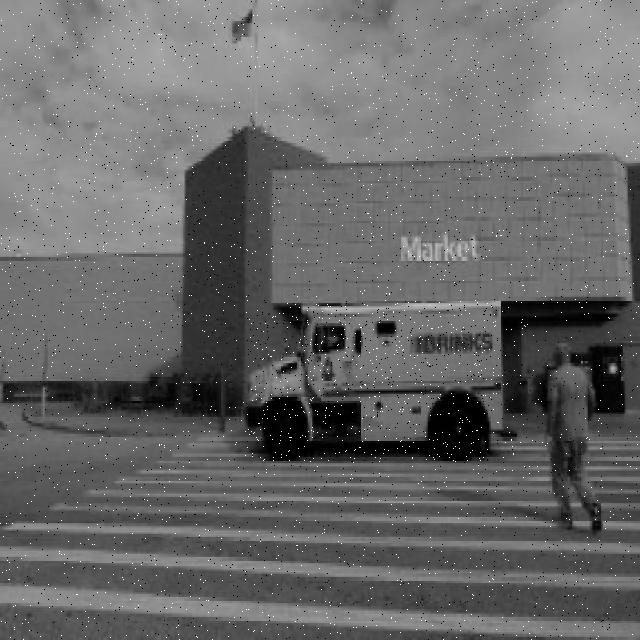Box Truck: (247, 302, 515, 462)
